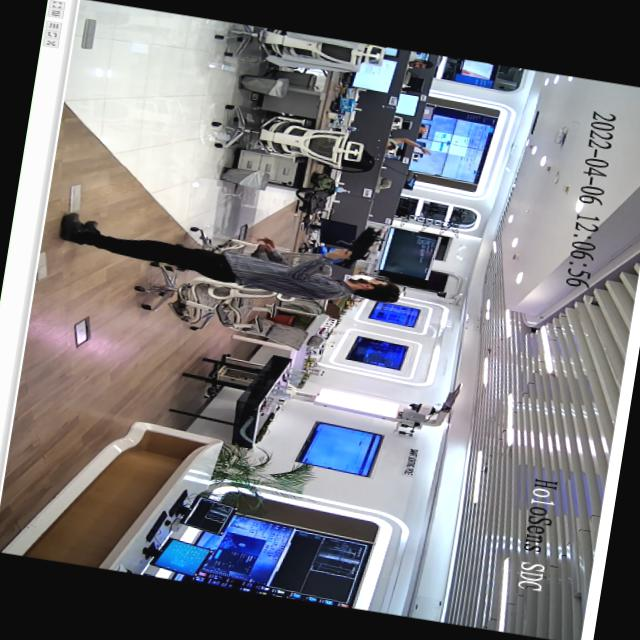long weapon: (322, 216, 396, 278)
